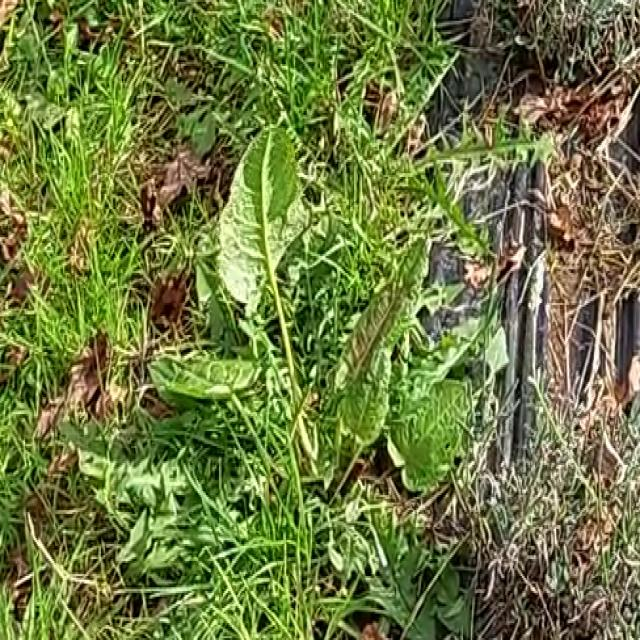organic waste: (110, 101, 483, 582)
